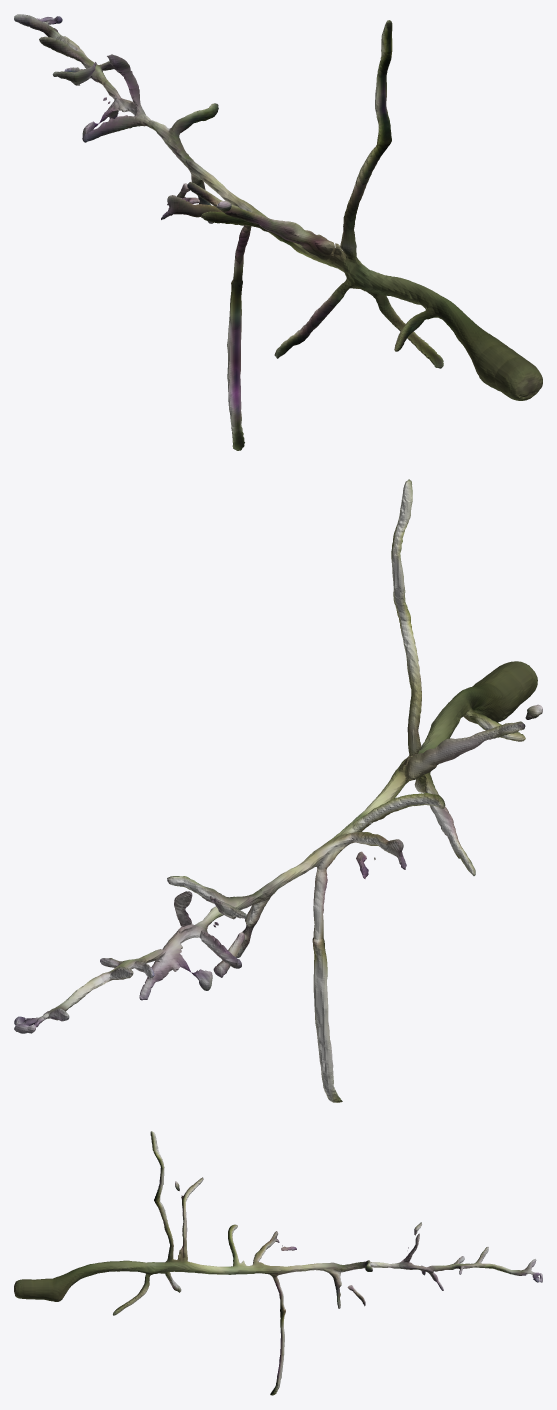
Rendered from tree5.obj.
3 renders of one model, top to bottom at view 1: azimuth 30°, elevation 25°; view 2: azimuth 150°, elevation 25°; view 3: azimuth 270°, elevation 25°, orthographic. The views are drawn at different scales.
Size of the model in its own units: 0.4046 by 1.01 by 1.76.
